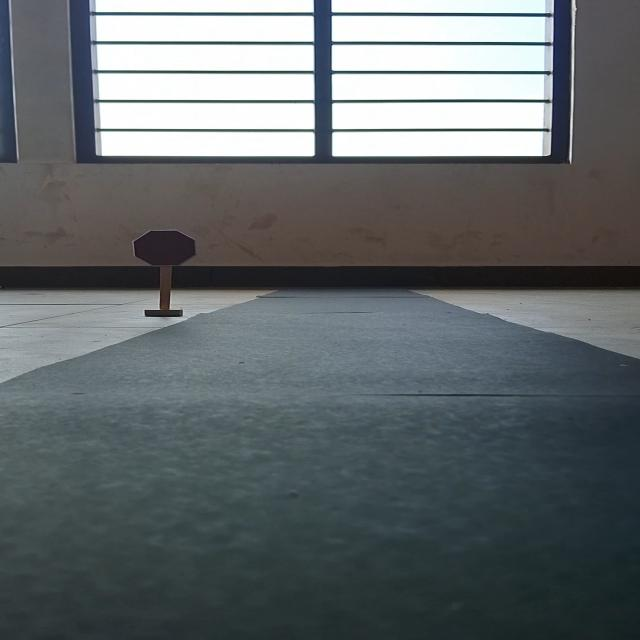Stop: (132, 230, 197, 267)
